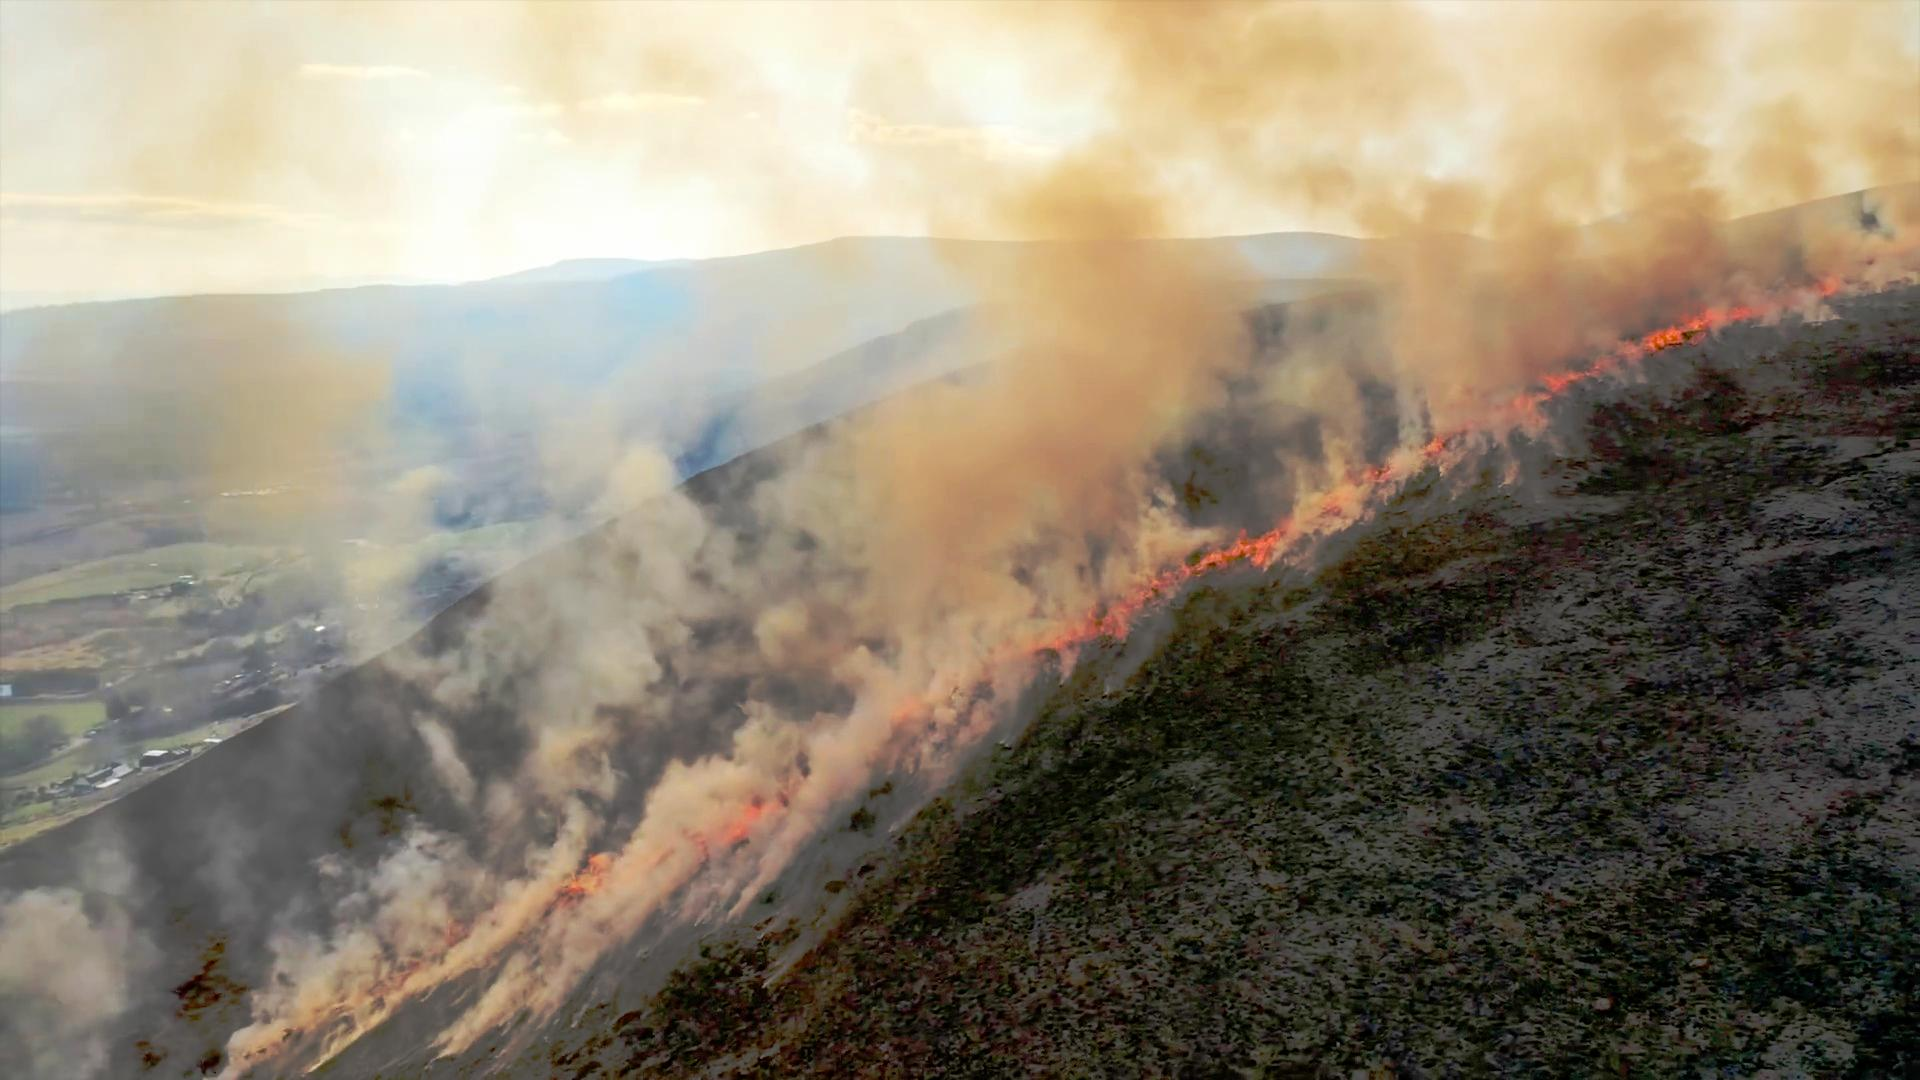smoke: (965, 92, 1230, 518)
